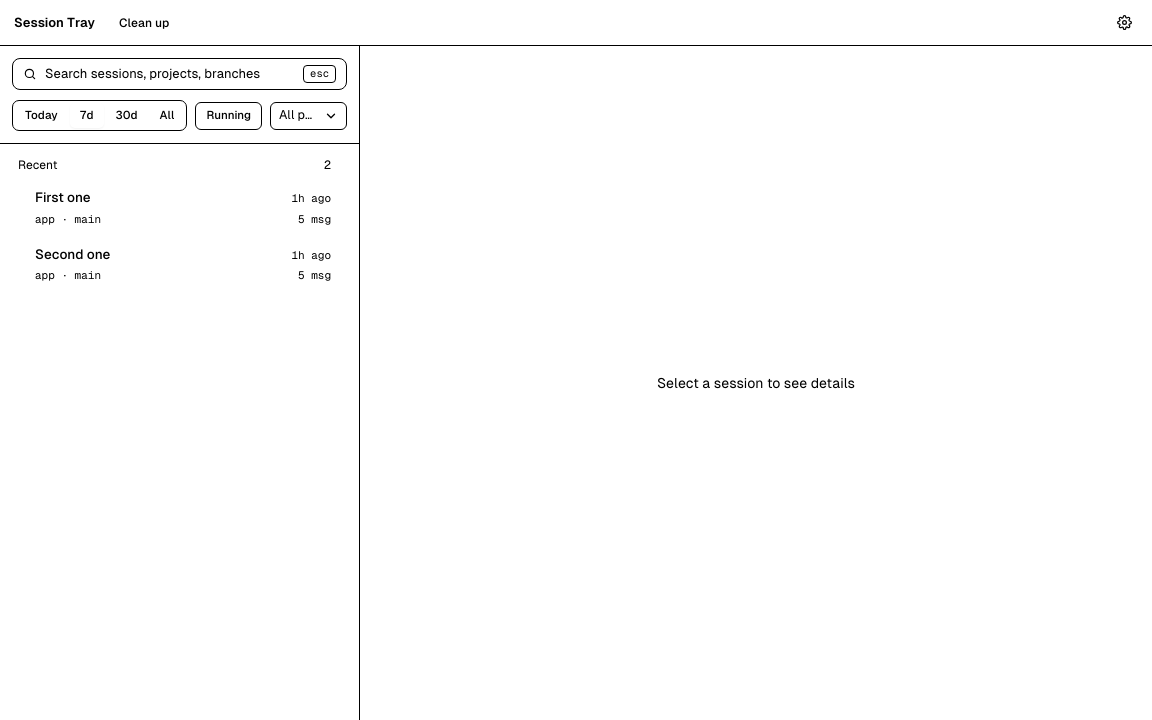
Window details › Copied does not carry over when another session is selected
Click the text "First one" at (63, 198), box [35,190,91,205]
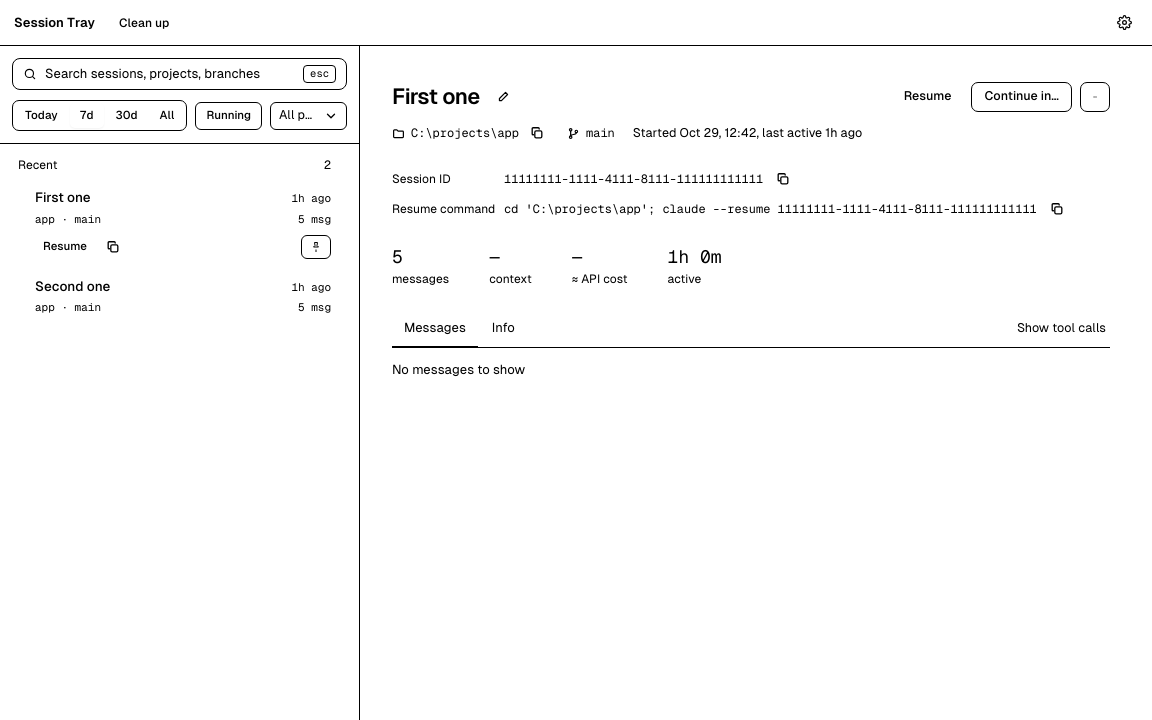
Click the button named "Copy session ID" at (783, 179), box [771,167,795,191]
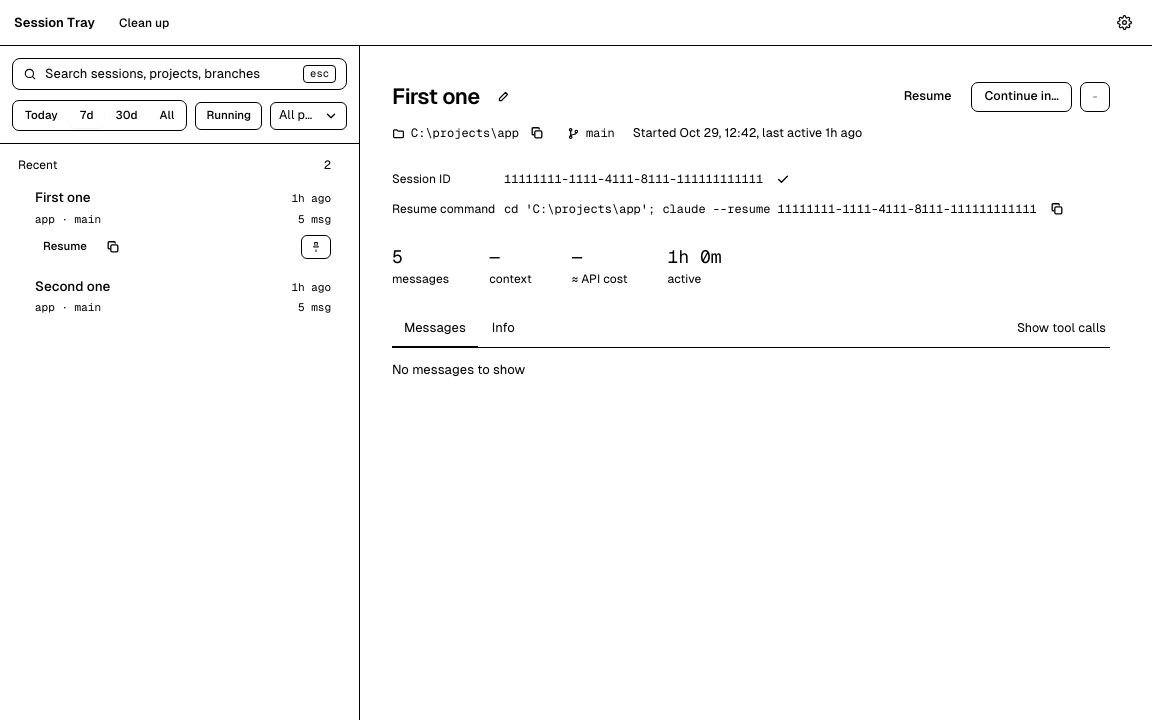
Click the text "Second one" at (73, 286), box [35,279,110,294]
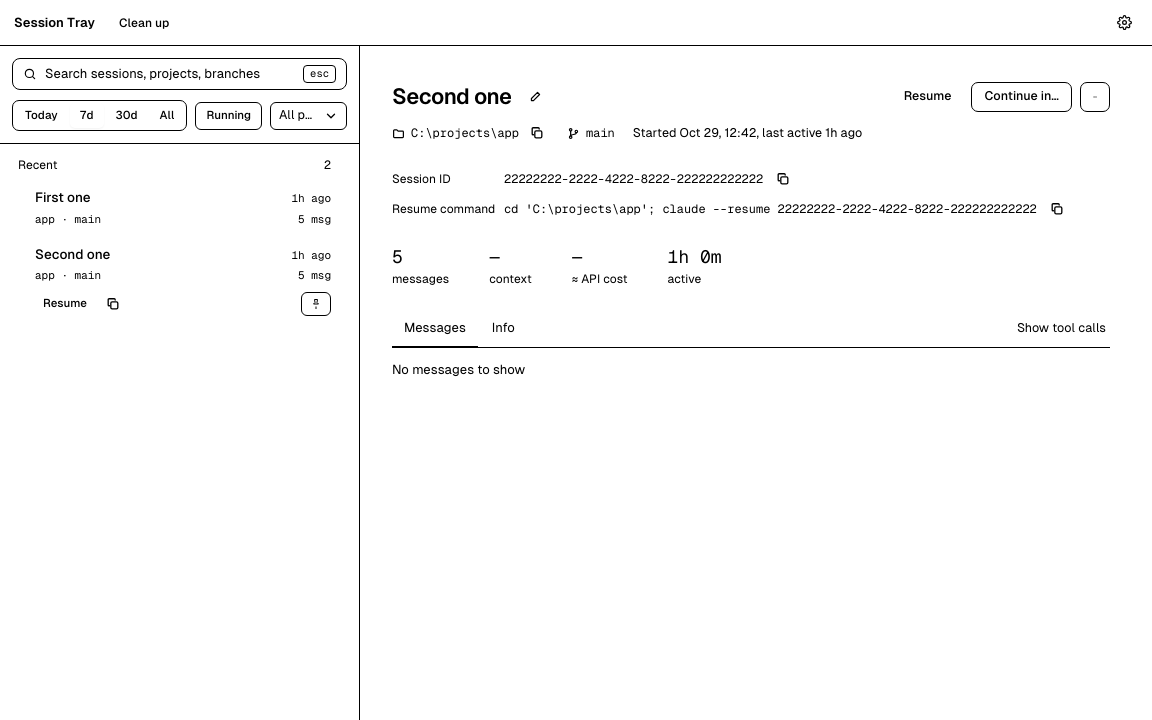
Now the text "Copied" is gone
